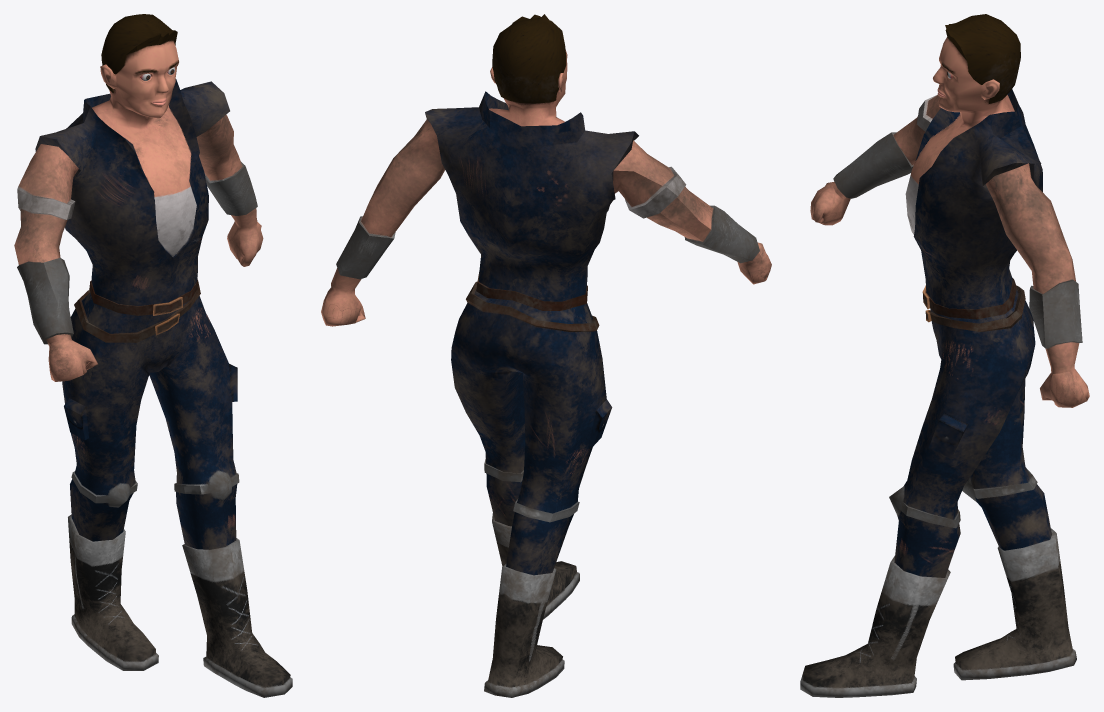
File: Anim_andar_jugador.0032.obj
3 renders of one model, left to right at view 1: azimuth 30°, elevation 25°; view 2: azimuth 150°, elevation 25°; view 3: azimuth 270°, elevation 25°, orthographic. The views are drawn at different scales.
Parts seen in each view (by area): view 1: Anim_andar_jugador; view 2: Anim_andar_jugador; view 3: Anim_andar_jugador.
Boxes of the visible parts, bbox=[...] form: Anim_andar_jugador: bbox=[14, 14, 292, 697]; Anim_andar_jugador: bbox=[321, 14, 771, 697]; Anim_andar_jugador: bbox=[800, 14, 1089, 697].
Size of the model in its own units: 5.1 by 9.65 by 3.85.
Materials: 2 (2 with a texture image).
